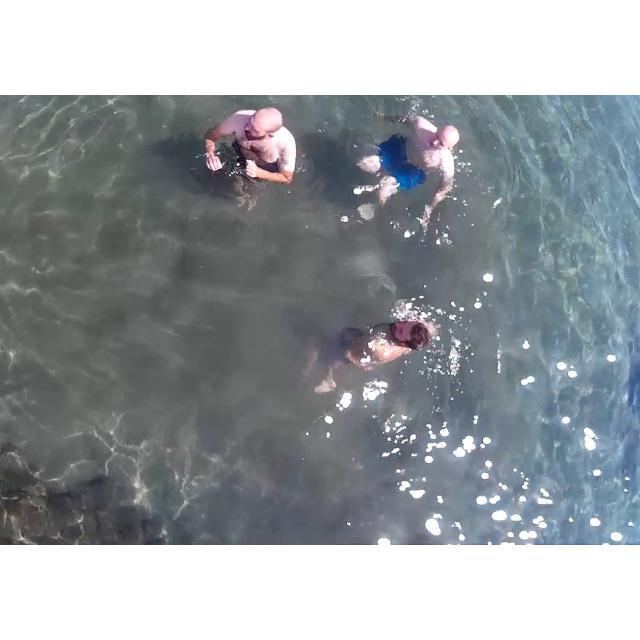human: (346, 105, 468, 206), (200, 95, 307, 200), (321, 295, 446, 376)
